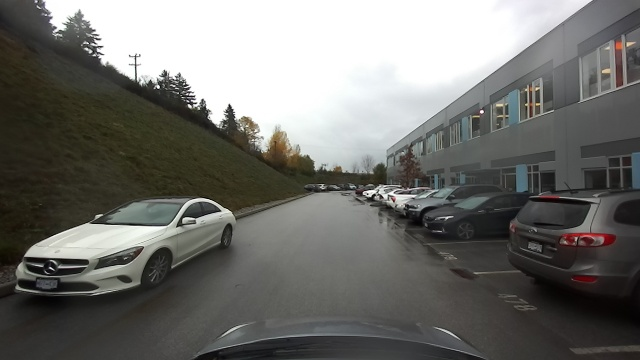car: (11, 188, 240, 307), (507, 182, 634, 305), (422, 177, 504, 241), (381, 184, 417, 220), (356, 184, 378, 202), (305, 182, 325, 194), (341, 182, 354, 192), (328, 184, 339, 189)
